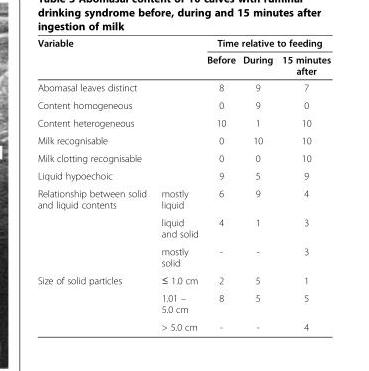table: (36, 36, 330, 332)
table column: (36, 36, 153, 332), (276, 36, 330, 332), (153, 36, 202, 332), (238, 36, 276, 332), (202, 36, 238, 332)
table column header: (36, 36, 330, 78)
table row: (36, 184, 330, 213), (36, 213, 330, 242), (36, 242, 330, 271), (36, 288, 330, 317), (36, 50, 330, 78), (36, 78, 330, 96), (36, 113, 330, 131), (36, 131, 330, 149), (36, 166, 330, 184), (36, 96, 330, 113), (36, 149, 330, 166), (36, 271, 330, 288), (36, 317, 330, 332), (36, 36, 330, 50)
table spanning cell: (36, 184, 153, 271), (36, 271, 153, 332), (36, 36, 202, 78), (36, 78, 202, 96), (36, 113, 202, 131), (36, 131, 202, 149), (36, 166, 202, 184), (36, 96, 202, 113), (36, 149, 202, 166), (202, 36, 330, 50)
